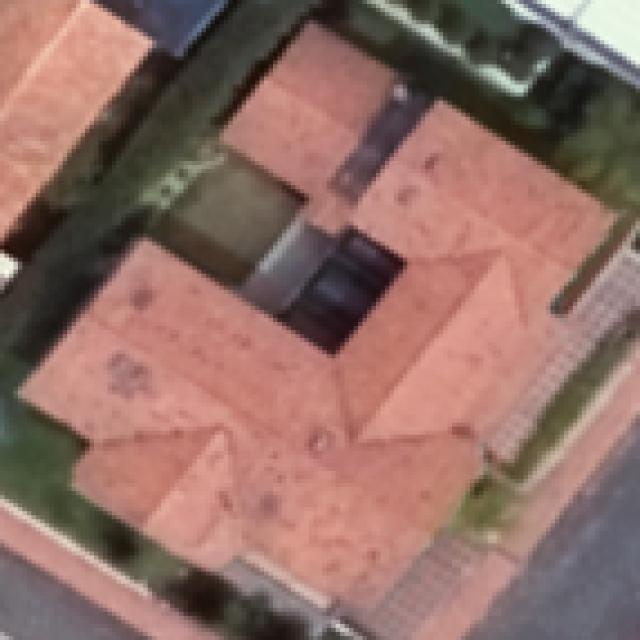Batiment: (21, 241, 480, 608), (354, 101, 614, 314), (341, 254, 542, 441), (0, 0, 153, 237), (221, 23, 393, 197)
